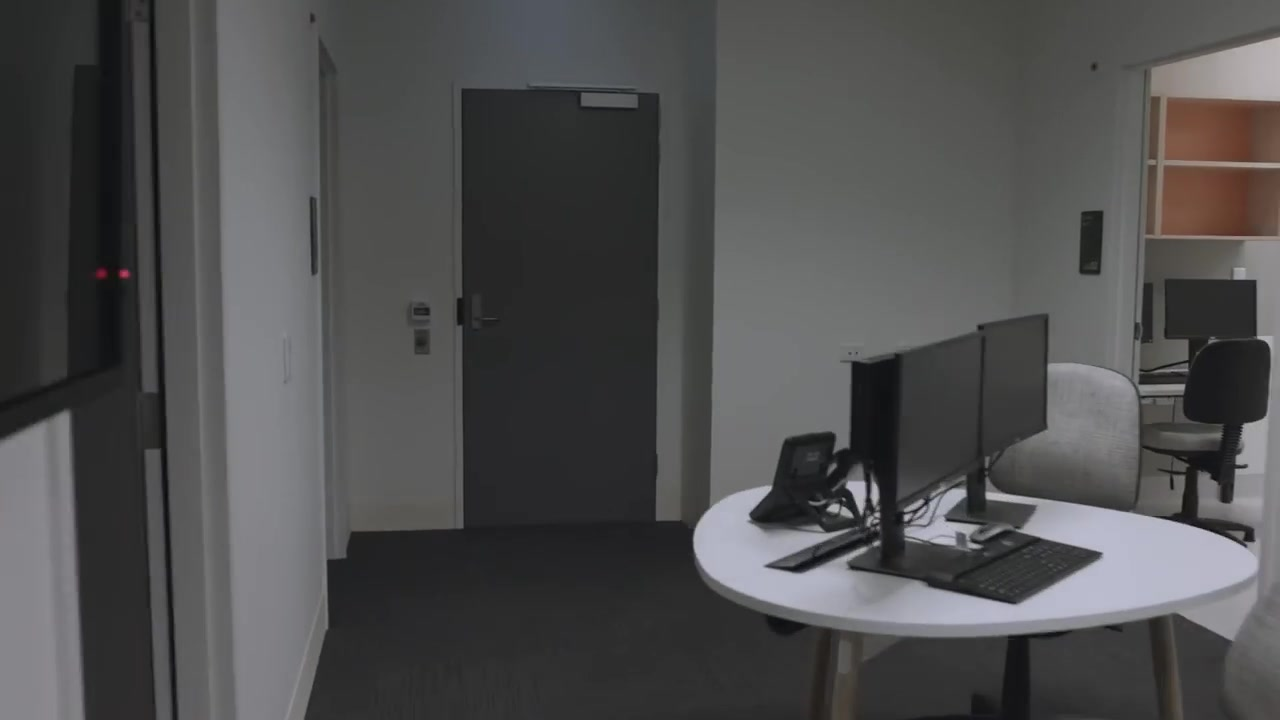chair: (948, 362, 1141, 720), (1142, 338, 1272, 543)
computer: (850, 333, 987, 510), (979, 312, 1048, 455), (1164, 277, 1257, 340)
door_handle: (466, 293, 502, 340)
keyboard: (928, 538, 1100, 603), (766, 524, 877, 572)
mouse: (967, 522, 1016, 543)
table: (693, 480, 1262, 720)
telephone: (748, 430, 852, 522)
